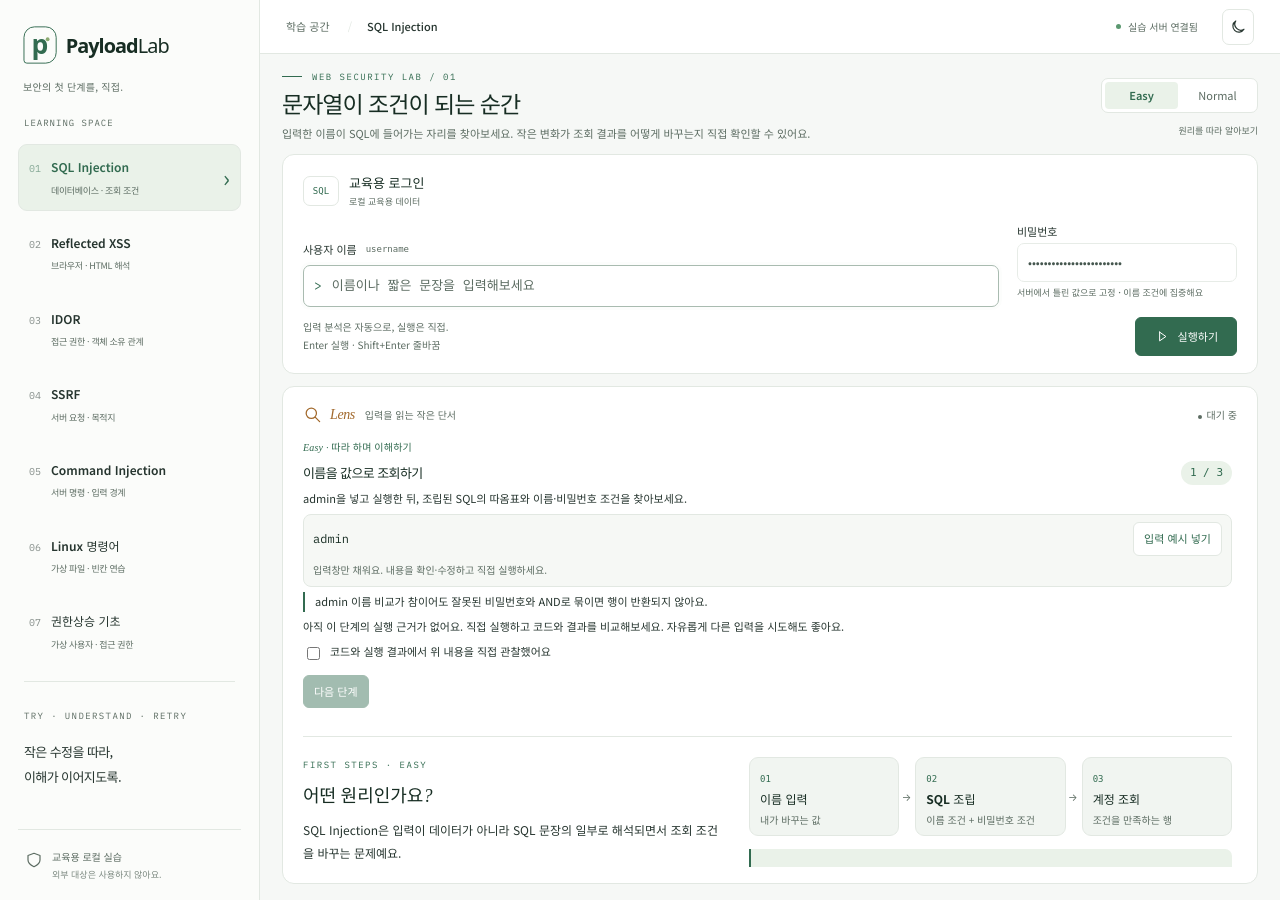
Test case: learning workspace › keeps Lens below the input and opens focus without scrolling the page
The width and height of the screenshot is (1280, 900).
Expected: the button "실행하기" is enabled, top-left (1134, 317), bottom-right (1237, 356)
Type "abc" into the text box labelled "사용자 이름".
click(660, 286); type("abc")  # box top-left (332, 274), bottom-right (988, 298)
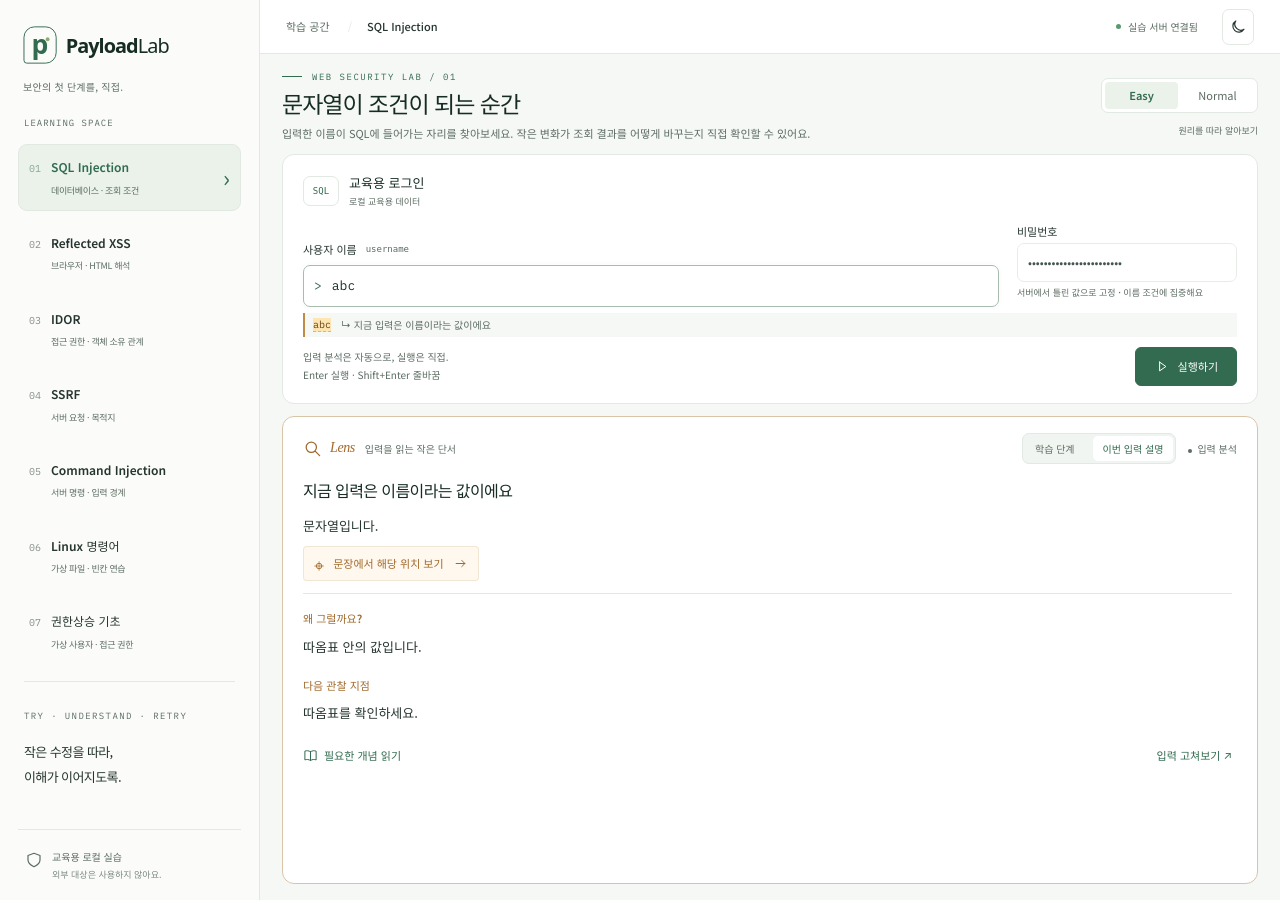
Expected: the heading "지금 입력은 이름이라는 값이에요" is shown, top-left (303, 478), bottom-right (512, 502)
Click the button "⌖ 문장에서 해당 위치 보기".
click(391, 564)  # box top-left (303, 546), bottom-right (479, 581)
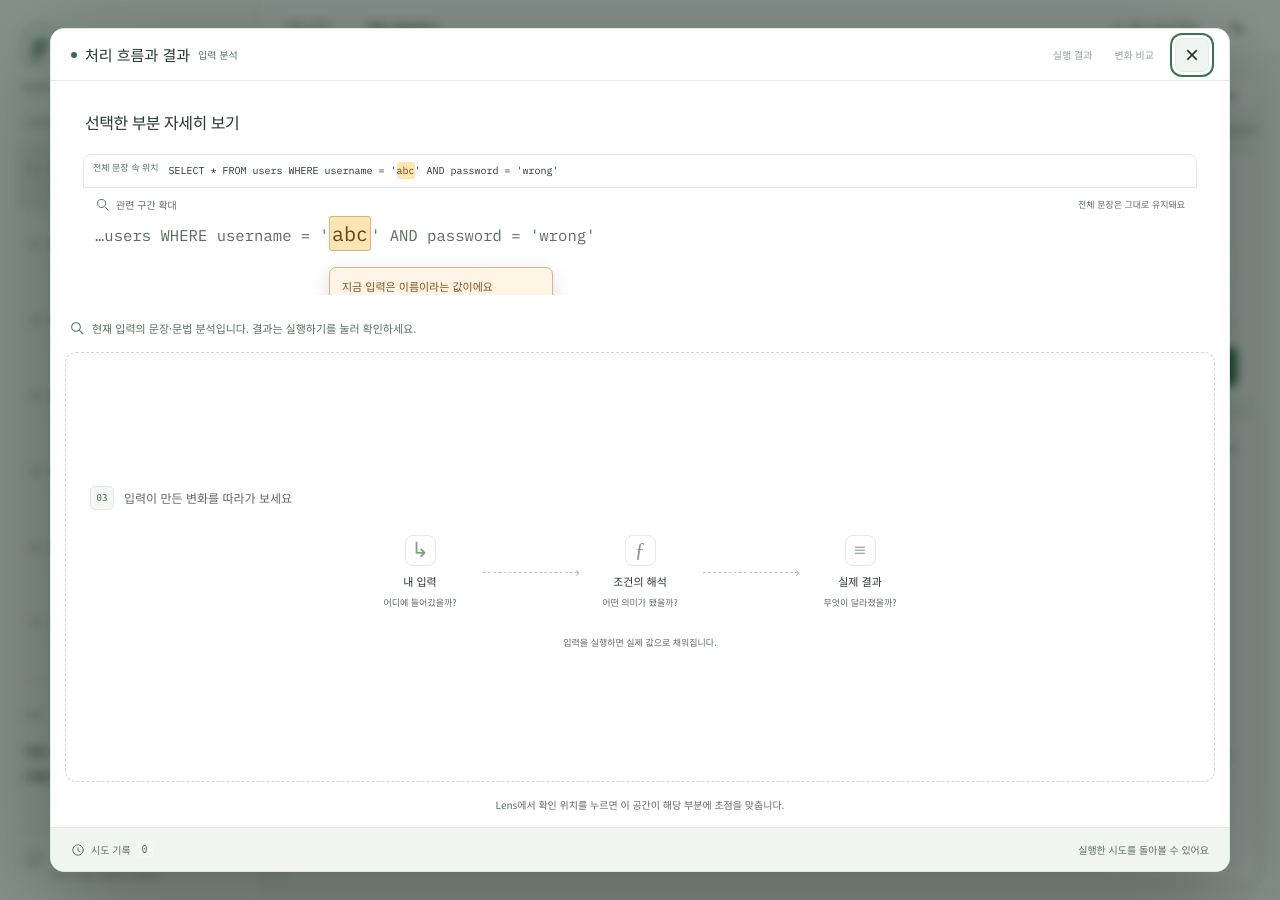
Expected: the heading "선택한 부분 자세히 보기" is shown, top-left (85, 110), bottom-right (239, 134)
